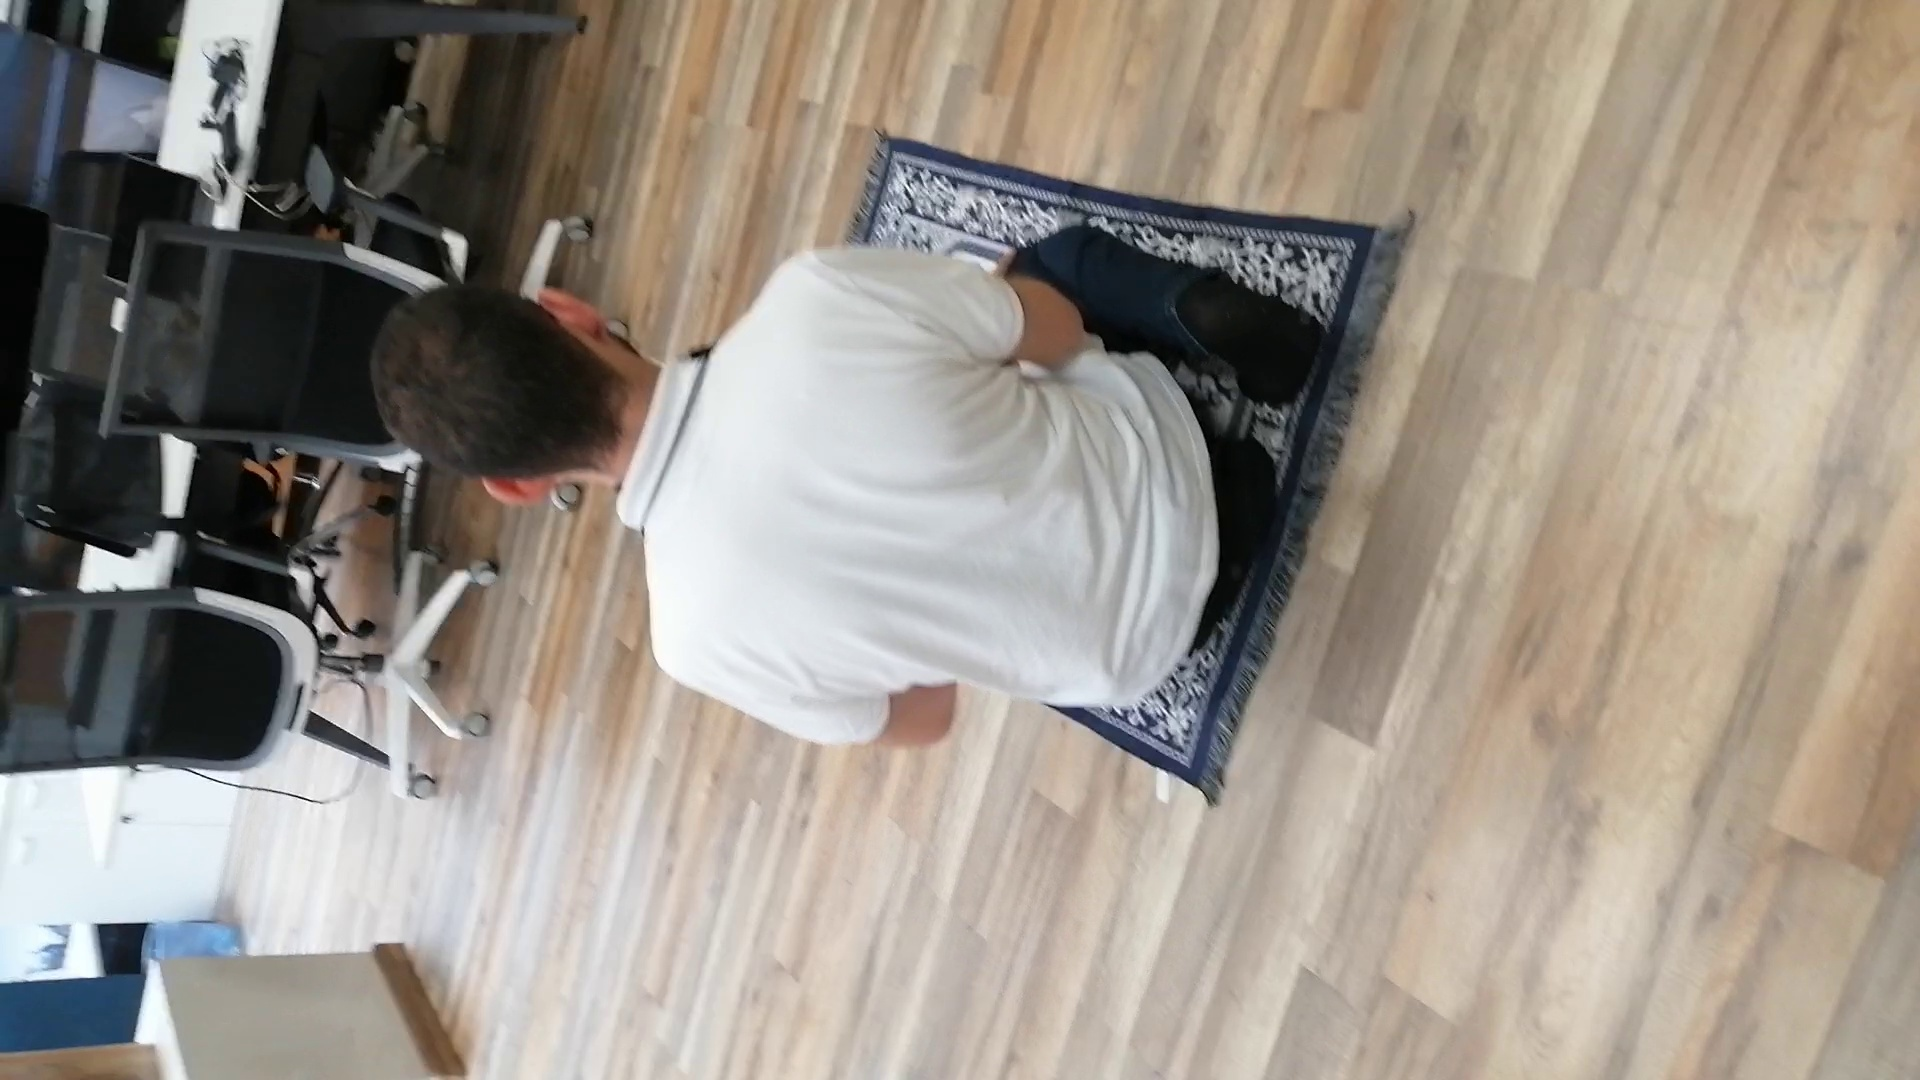sitting: (357, 212, 1319, 760)
